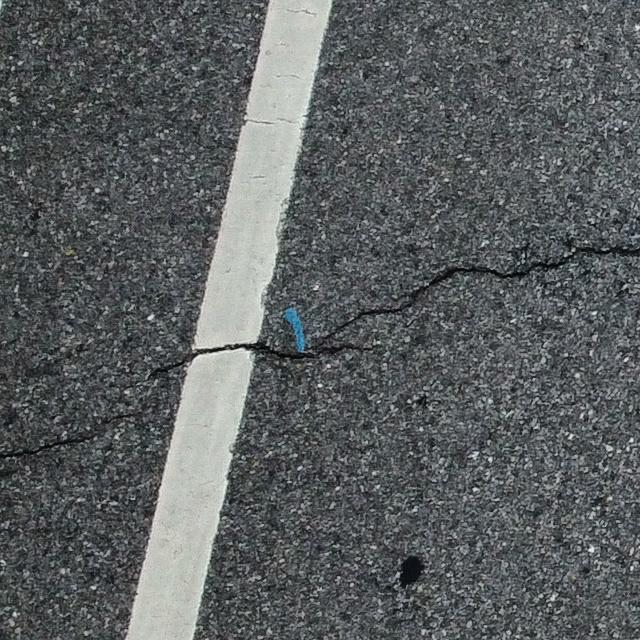TransverseCrack: (1, 241, 640, 458)
